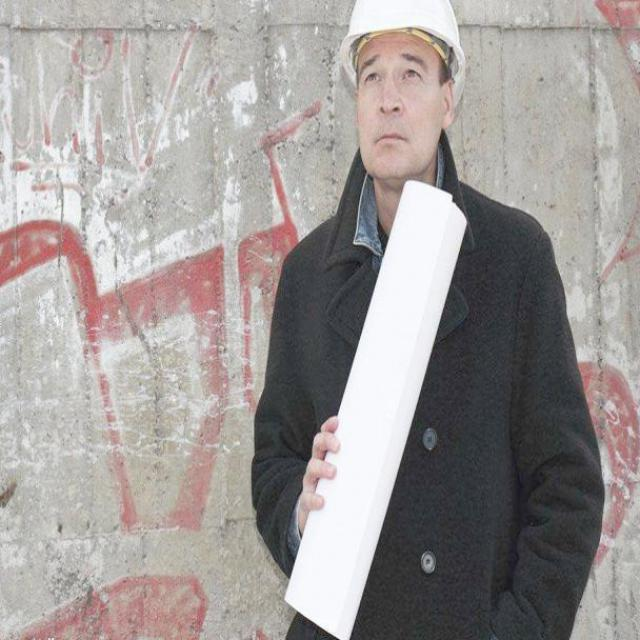helmet: (309, 0, 482, 182)
